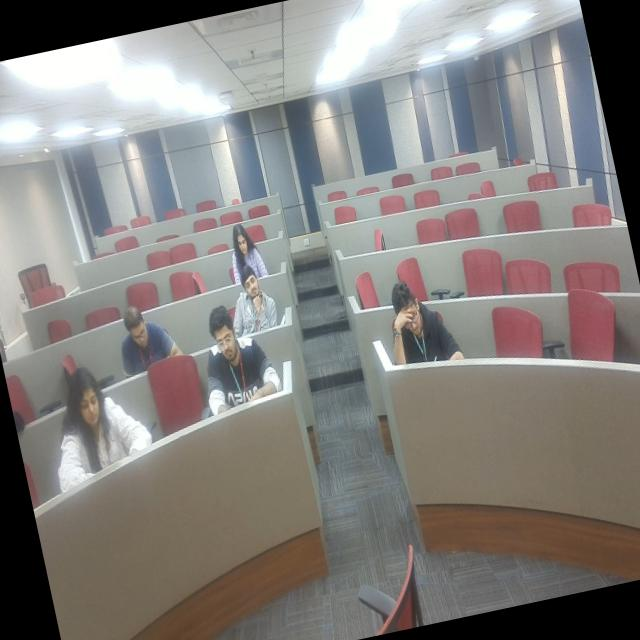cheating: (368, 270, 478, 390)
non-cheating: (31, 354, 157, 486), (186, 298, 290, 424), (106, 294, 190, 387), (217, 215, 268, 278)
